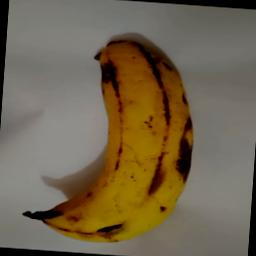Banana Unripe: (24, 36, 202, 249)
